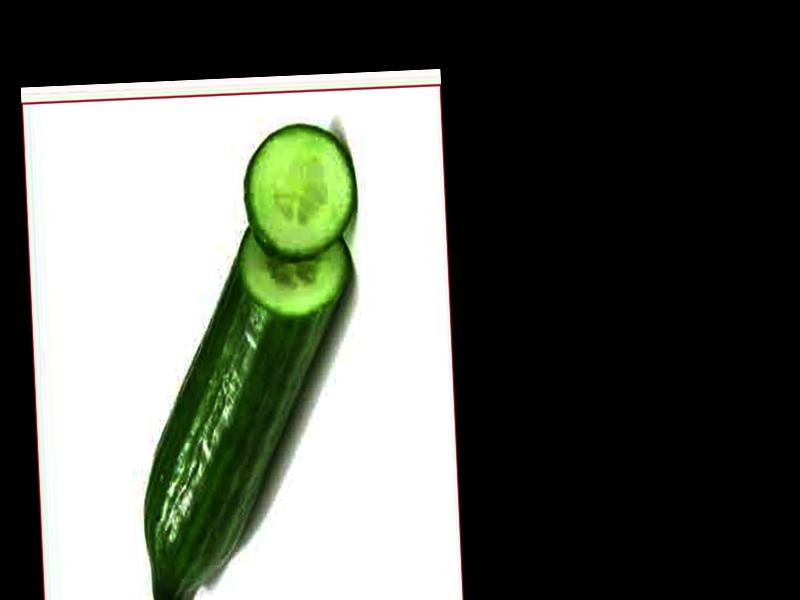Cucumber: (132, 216, 366, 600)
